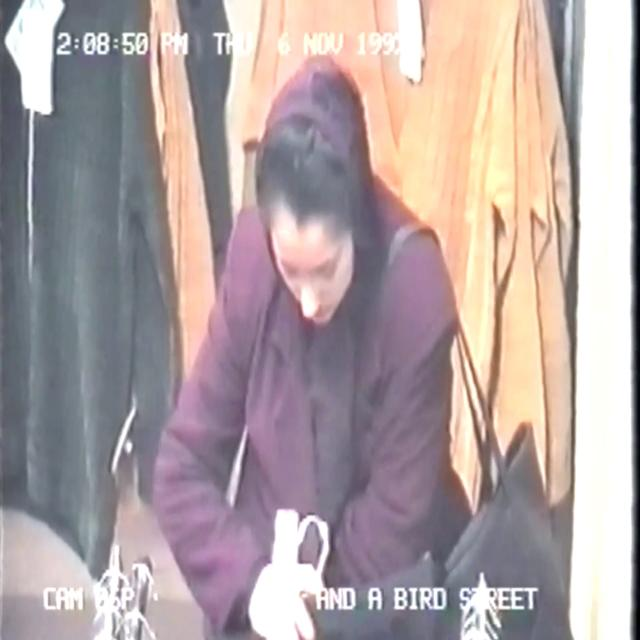Product: (228, 525, 430, 640)
shoplifting: (153, 0, 518, 640)
